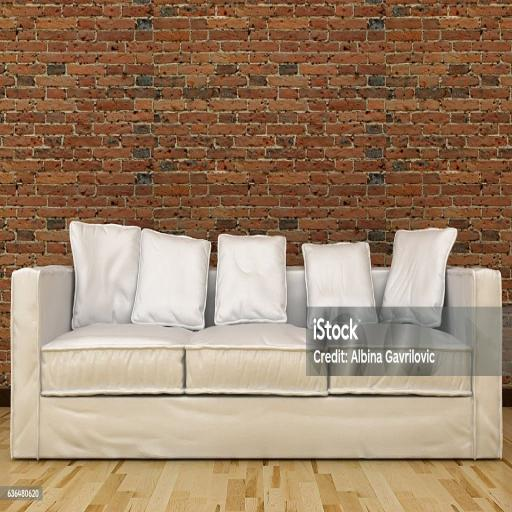back_cushion: (70, 221, 456, 332)
base: (40, 396, 473, 457)
left_arm: (440, 268, 502, 457)
right_arm: (10, 267, 74, 457)
seat_cushion: (40, 324, 472, 396)
stallion-sofa2: (10, 221, 502, 458)
